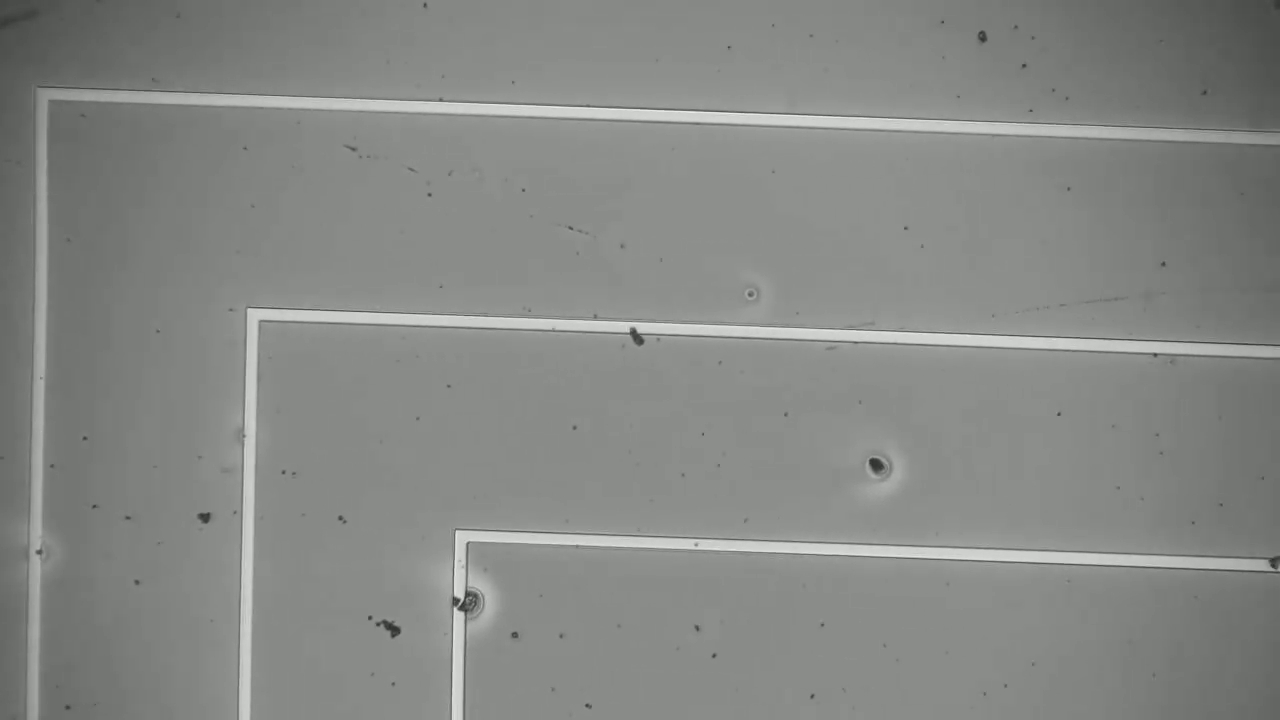stains_enbedded: (451, 581, 480, 630), (623, 308, 651, 351), (21, 536, 54, 571), (1261, 547, 1280, 585)
